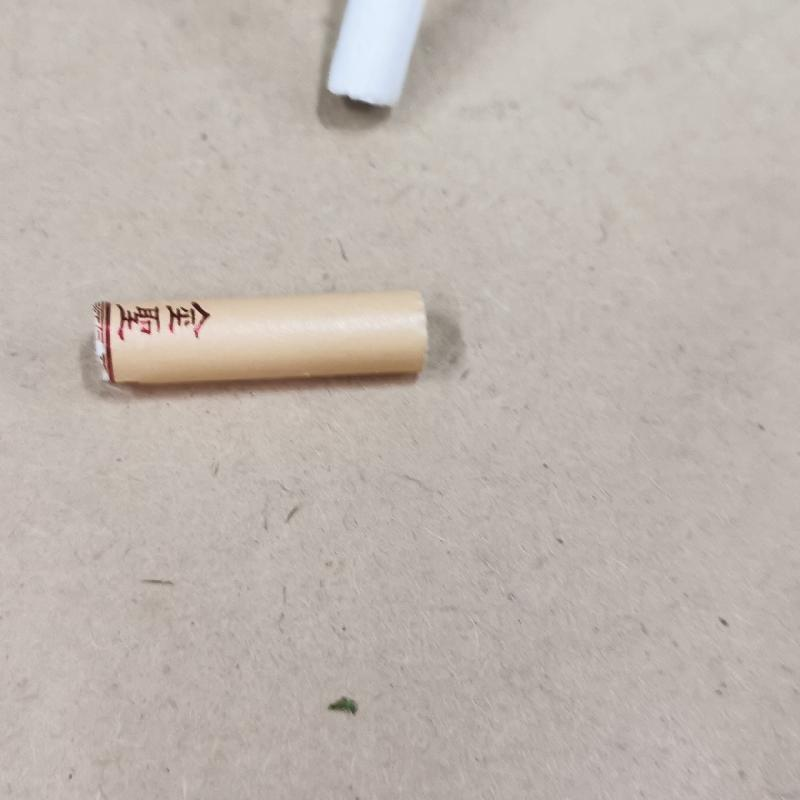cigarette: (86, 283, 437, 391)
